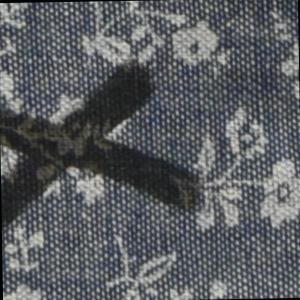Stain: (1, 56, 209, 238)
